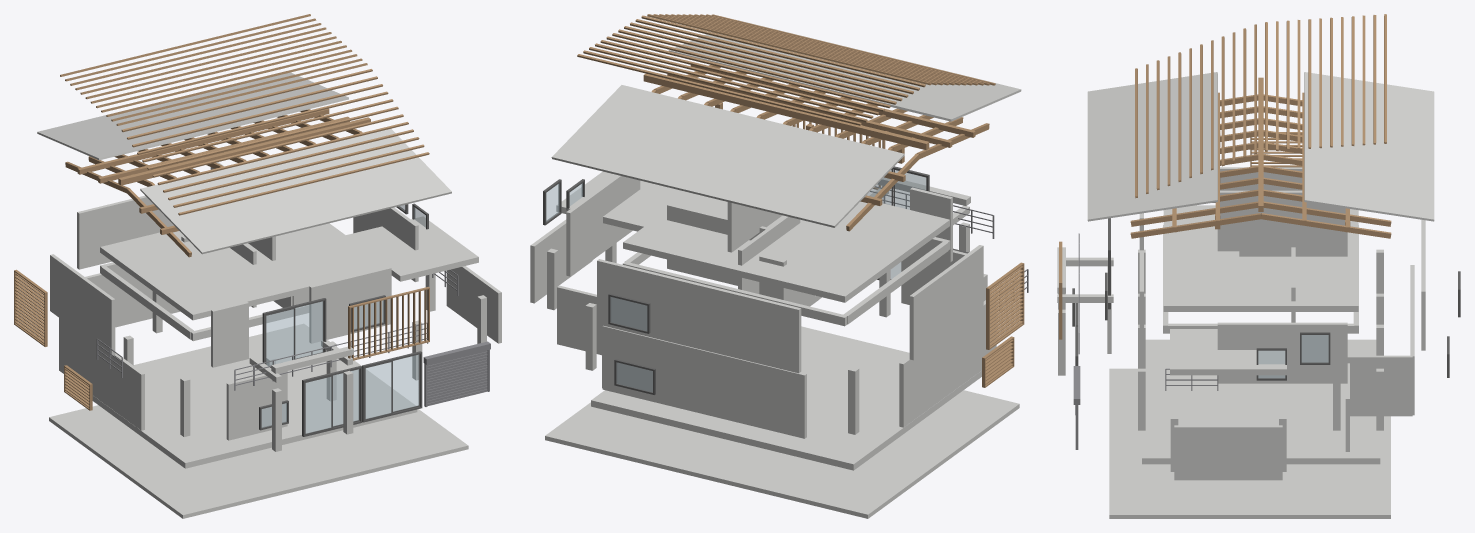
Rendered from casa.glb.
The picture shows the model from 3 angles, left to right: view 1: azimuth 30°, elevation 25°; view 2: azimuth 150°, elevation 25°; view 3: azimuth 270°, elevation 25°; orthographic projection. The views are drawn at different scales.
Parts seen in each view (by area): view 1: base_inferior, telhado_agua_frente, laje_terreo, laje_superior, telhado_agua_fundo, parede_terreo_esquerda, garagem_laje, parede_sup_frente_dir, parede_sup_esquerda, parede_sup_fundo, garagem_portao, parede_terreo_frente_esq (+50 smaller); view 2: telhado_agua_fundo, base_inferior, laje_superior, laje_terreo, parede_sup_fundo, parede_terreo_fundo, telhado_agua_frente, parede_terreo_esquerda, parede_sup_esquerda, parede_sup_direita, garagem_laje, viga_cumeeira (+46 smaller); view 3: base_inferior, telhado_agua_fundo, telhado_agua_frente, laje_terreo, laje_superior, garagem_parede_direita, parede_sup_direita, parede_sup_interna, garagem_laje, parede_terreo_direita, parede_sup_esquerda, caibro_frente_11 (+27 smaller).
Part boxes in pixels (box(x1,y1,x2,y2)): base_inferior: box(49, 405, 468, 518); telhado_agua_frente: box(140, 129, 451, 254); laje_terreo: box(92, 323, 417, 468); laje_superior: box(100, 223, 388, 320); telhado_agua_fundo: box(37, 72, 348, 160); parede_terreo_esquerda: box(59, 318, 144, 430); garagem_laje: box(346, 216, 478, 281); parede_sup_frente_dir: box(309, 266, 391, 343); parede_sup_esquerda: box(50, 254, 115, 355); parede_sup_fundo: box(77, 195, 173, 269); garagem_portao: box(423, 341, 490, 406); parede_terreo_frente_esq: box(226, 371, 287, 440); telhado_agua_fundo: box(551, 85, 904, 227); base_inferior: box(545, 390, 1019, 518); laje_superior: box(623, 193, 949, 302); laje_terreo: box(591, 326, 981, 470); parede_sup_fundo: box(597, 259, 801, 373); parede_terreo_fundo: box(602, 325, 806, 438); telhado_agua_frente: box(668, 20, 1021, 121); parede_terreo_esquerda: box(899, 296, 996, 427); parede_sup_esquerda: box(909, 245, 983, 360); parede_sup_direita: box(566, 175, 640, 276); garagem_laje: box(556, 171, 689, 231); viga_cumeeira: box(643, 73, 929, 150); base_inferior: box(1109, 368, 1390, 518); telhado_agua_fundo: box(1304, 72, 1434, 221); telhado_agua_frente: box(1087, 72, 1217, 221); laje_terreo: box(1142, 339, 1380, 464); laje_superior: box(1163, 205, 1358, 311); garagem_parede_direita: box(1174, 425, 1282, 480); parede_sup_direita: box(1217, 322, 1347, 383); parede_sup_interna: box(1217, 190, 1347, 251); garagem_laje: box(1170, 329, 1286, 375); parede_terreo_direita: box(1347, 355, 1412, 416); parede_sup_esquerda: box(1220, 167, 1302, 190); caibro_frente_11: box(1130, 213, 1261, 238).
Size of the model in its own units: 23.57 by 18.5 by 18.61.
